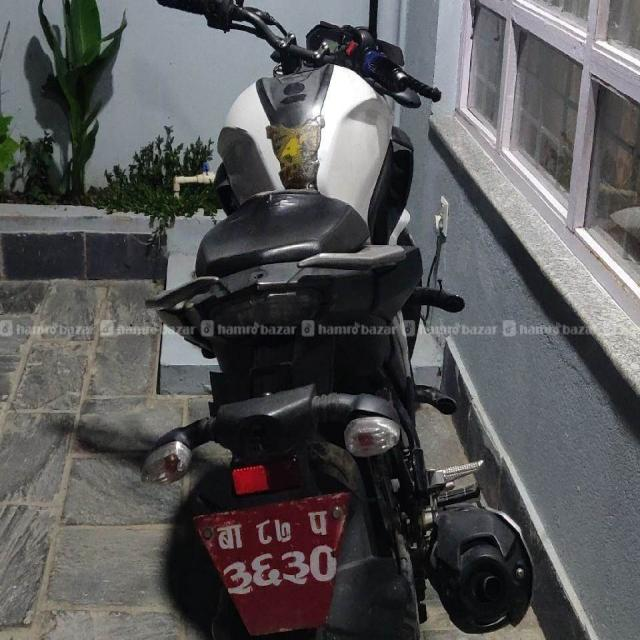License-plate: (179, 490, 360, 633)
